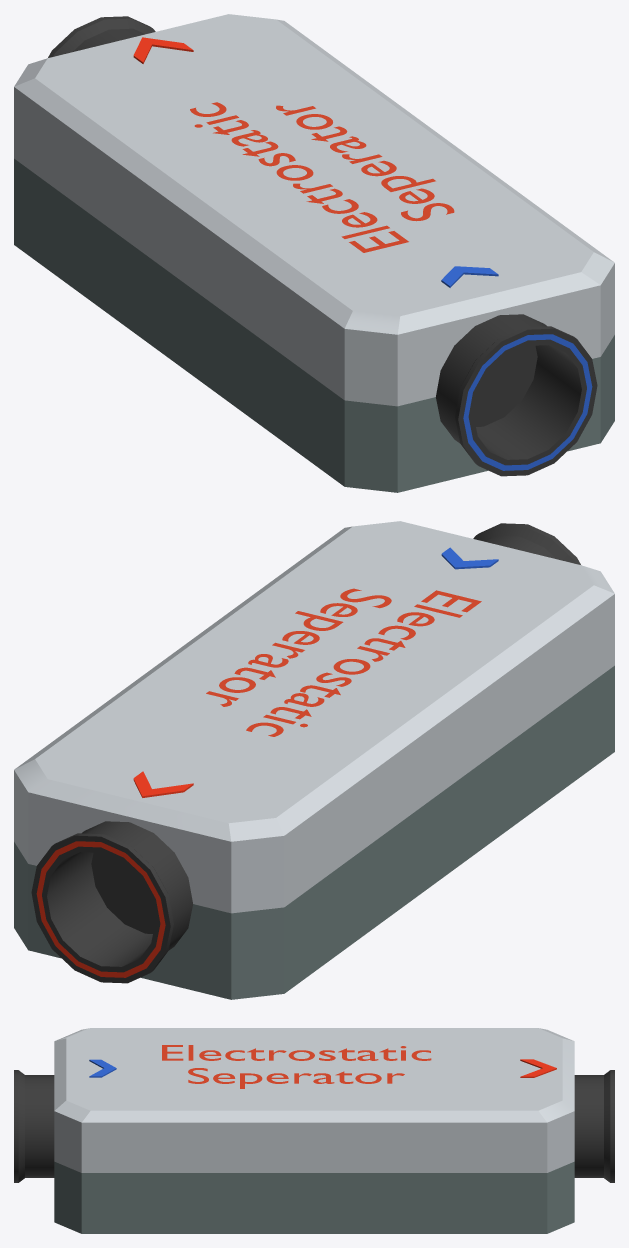
File: ElectrostaticSeperator.fbx
The picture shows the model from 3 angles, top to bottom: view 1: azimuth 30°, elevation 25°; view 2: azimuth 150°, elevation 25°; view 3: azimuth 270°, elevation 25°; orthographic projection. The views are drawn at different scales.
Visible parts, largest first — view 1: Electrostatic Seperator; view 2: Electrostatic Seperator; view 3: Electrostatic Seperator.
Boxes of the visible parts, x1=… form: Electrostatic Seperator: x1=14, y1=14, x2=614, y2=492; Electrostatic Seperator: x1=14, y1=521, x2=614, y2=999; Electrostatic Seperator: x1=14, y1=1028, x2=614, y2=1233.
Size of the model in its own units: 73.17 by 44.87 by 200.
